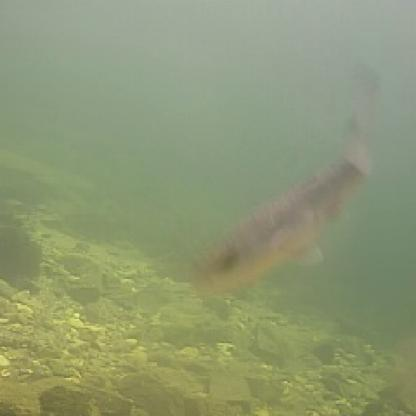salmon: (179, 73, 383, 303)
